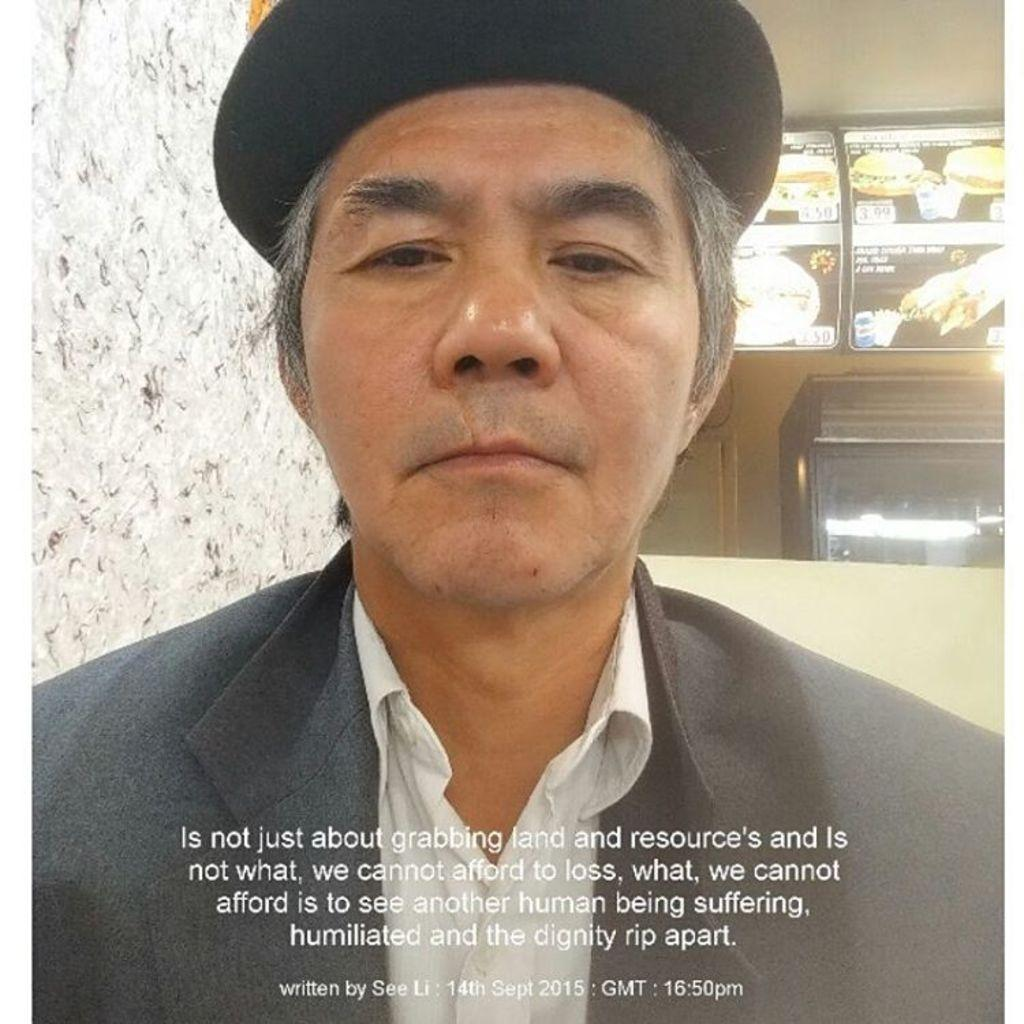Hat: (211, 0, 782, 275)
